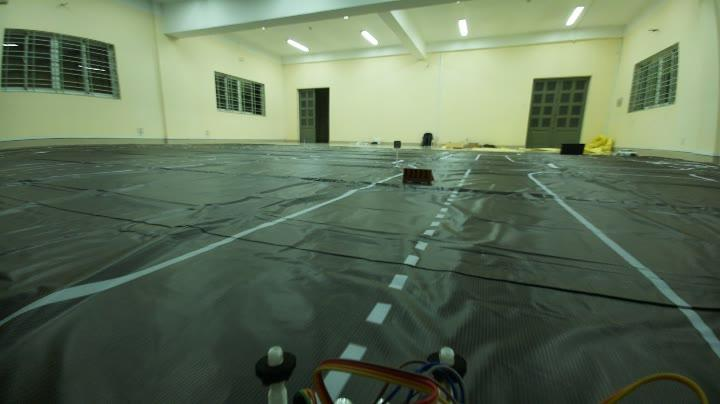roadblock: (398, 162, 442, 189)
